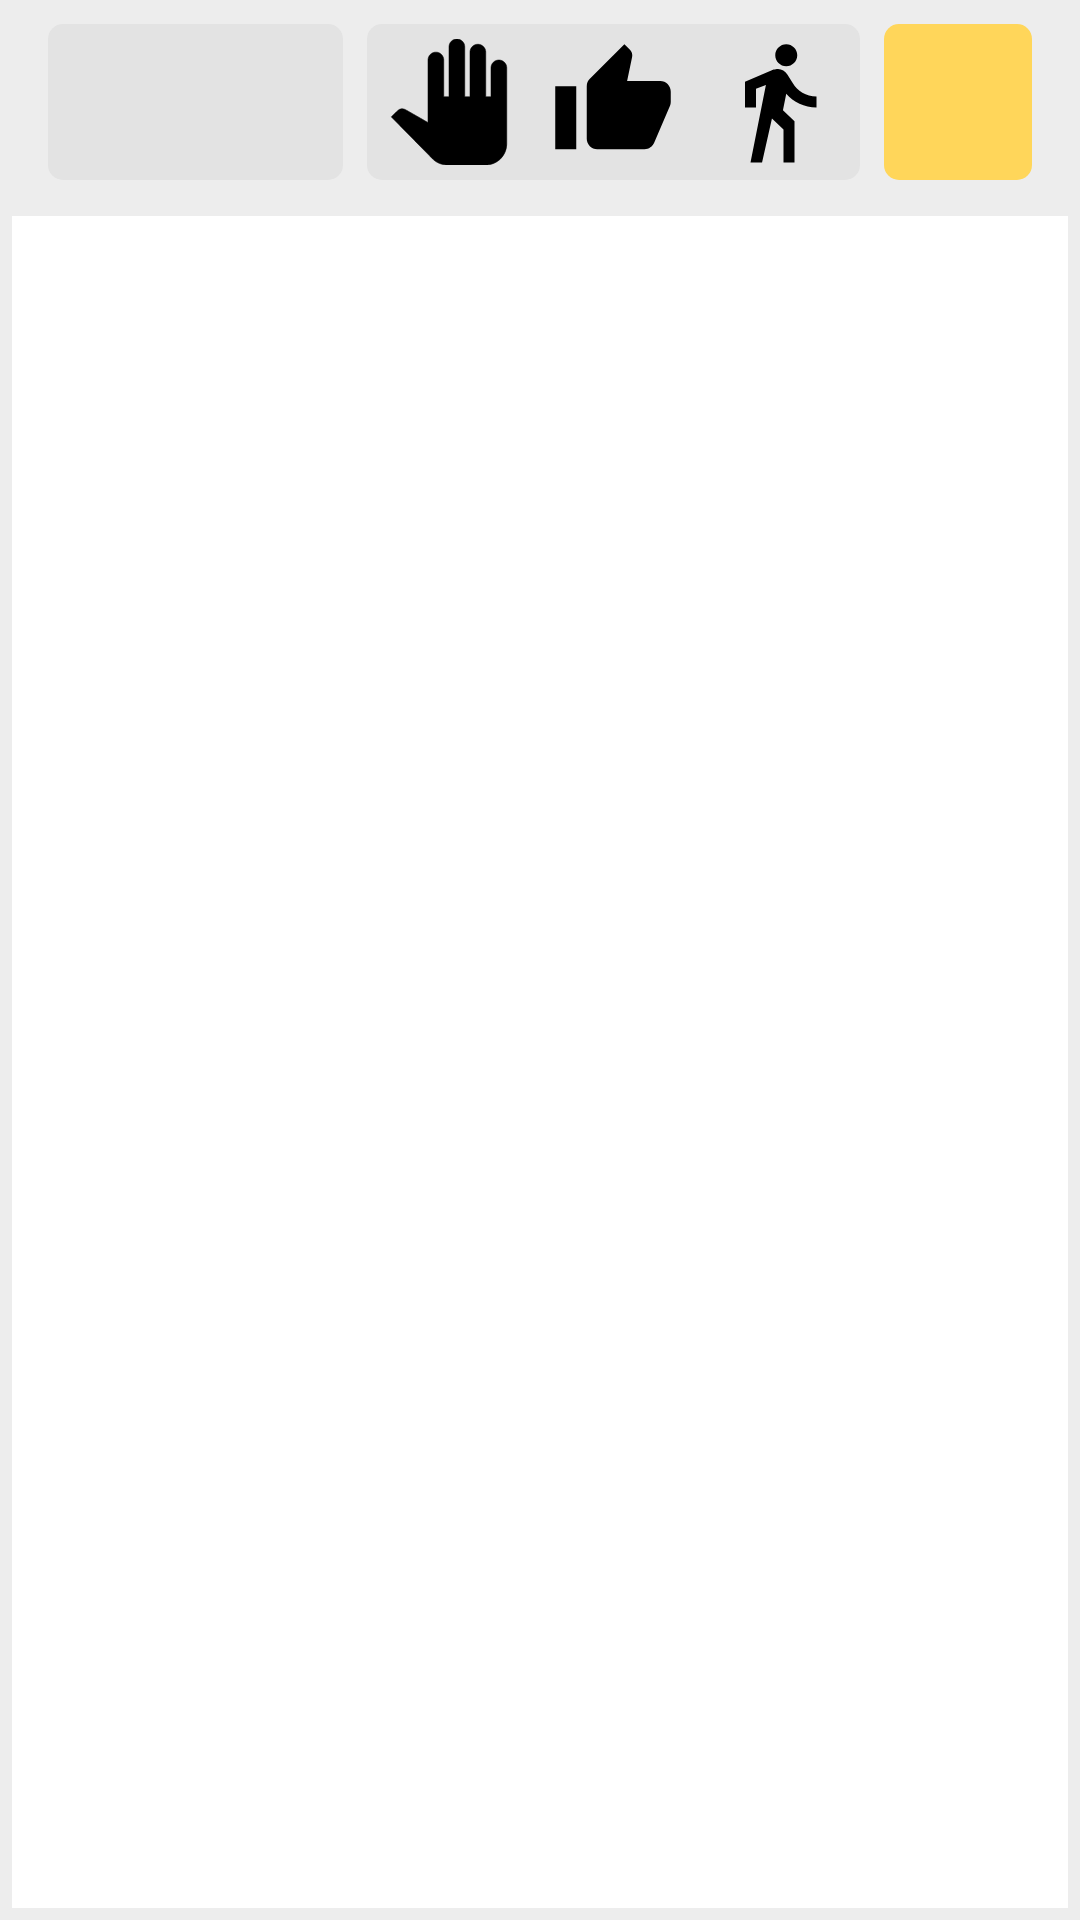

Where icons sit on this 1080*1920 app screen, as (x1, y1, x2, y2):
left hand: (391, 39, 508, 165)
